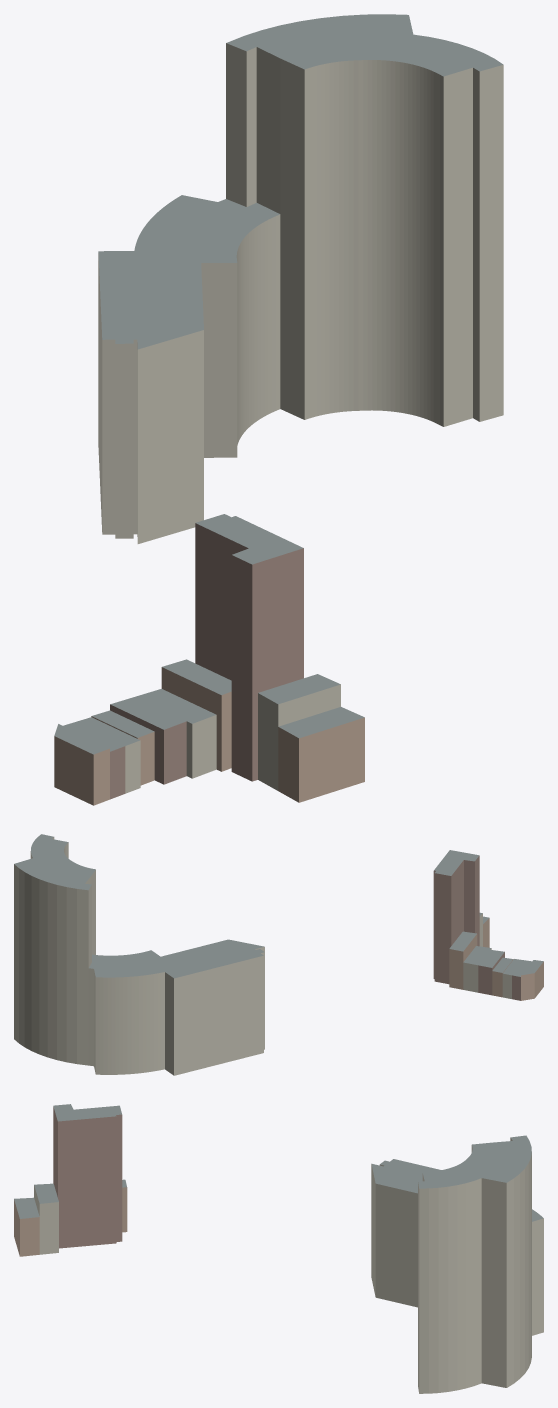
The model's file is C-infill.gltf.
The picture shows the model from 3 angles, top to bottom: view 1: azimuth 30°, elevation 25°; view 2: azimuth 150°, elevation 25°; view 3: azimuth 270°, elevation 25°; orthographic projection. The views are drawn at different scales.
Parts seen in each view (by area): view 1: C-infill; view 2: C-infill; view 3: C-infill.
Boxes of the visible parts, x1,y1,x2,y2 form: C-infill: (54,14,503,805); C-infill: (14,834,543,1075); C-infill: (14,1104,543,1393).
Size of the model in its own units: 206 by 96 by 225.
